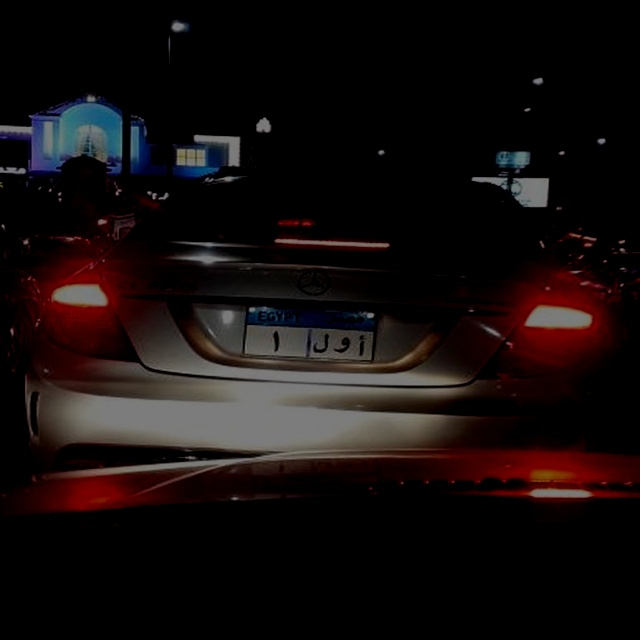License Plate: (240, 301, 378, 363)
